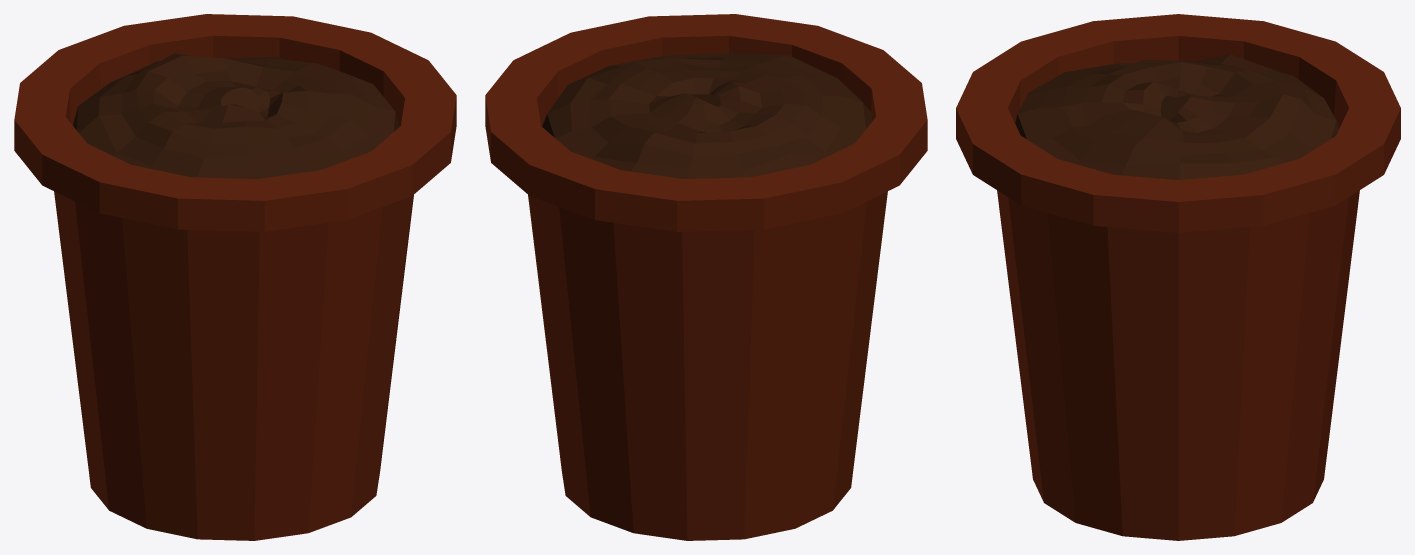
Rendered from Flowerpot.fbx.
3 views of the same model, side by side, from view 1: azimuth 30°, elevation 25°; view 2: azimuth 150°, elevation 25°; view 3: azimuth 270°, elevation 25° (orthographic).
Visible parts, largest first — view 1: Flowerpot; view 2: Flowerpot; view 3: Flowerpot.
Part boxes in pixels (box(x1,y1,x2,y2)): Flowerpot: box(14, 14, 456, 540); Flowerpot: box(485, 14, 927, 540); Flowerpot: box(956, 14, 1400, 540).
Bounding box in the file's own units: 23.69 × 22.81 × 23.69.
